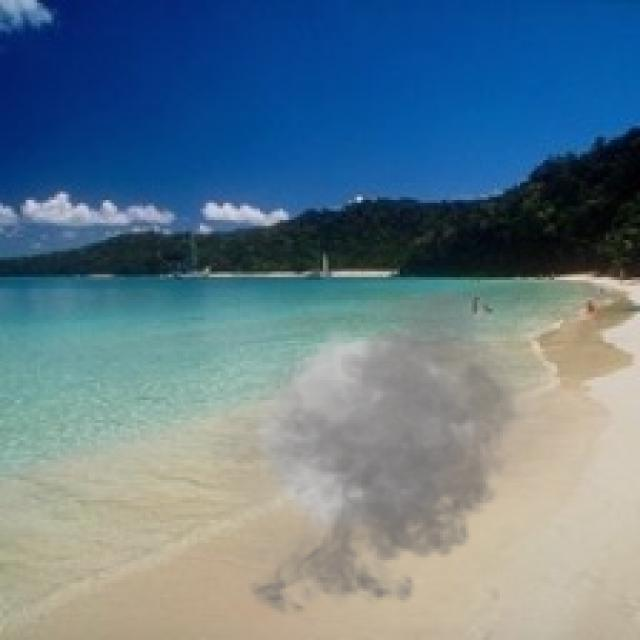smoke: (191, 277, 543, 626)
